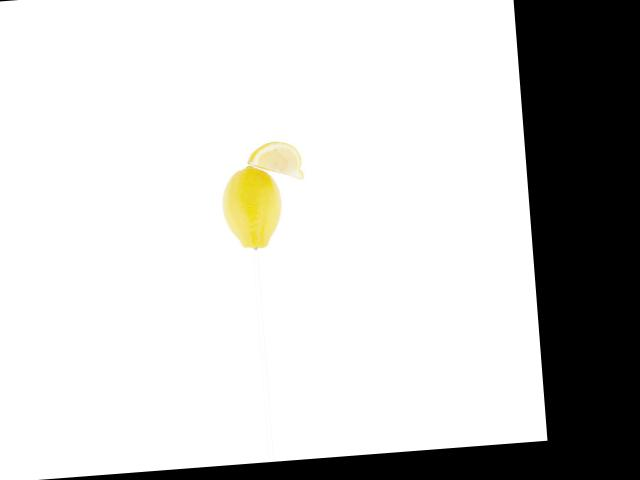lemon: (216, 160, 288, 253)
